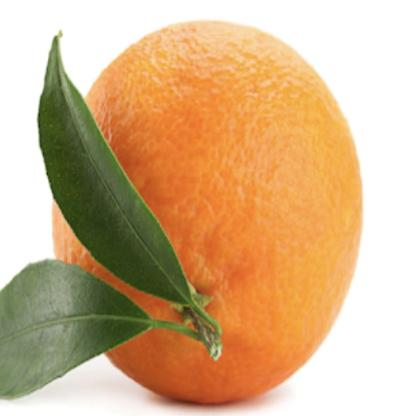fresh: (48, 18, 359, 405)
